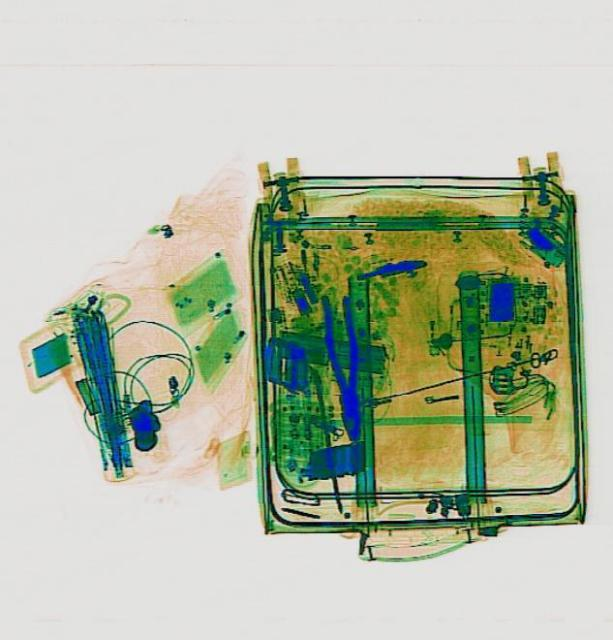Pliers: (315, 288, 368, 438)
